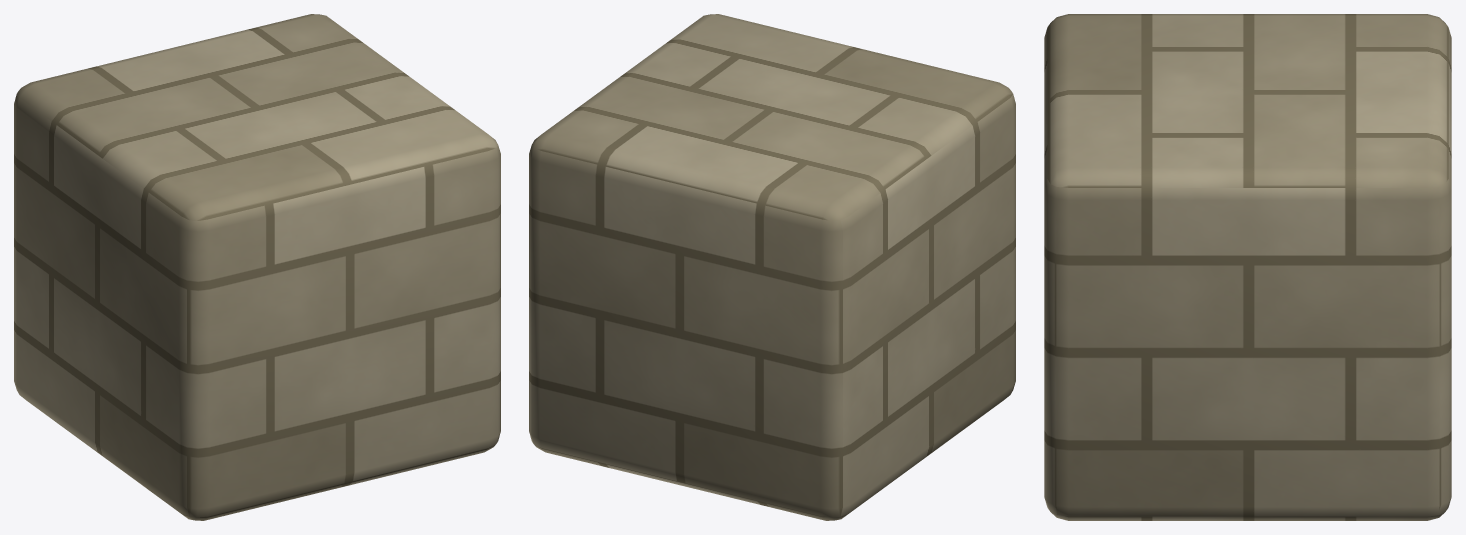
File: border.glb
The picture shows the model from 3 angles, left to right: view 1: azimuth 30°, elevation 25°; view 2: azimuth 150°, elevation 25°; view 3: azimuth 270°, elevation 25°; orthographic projection. The views are drawn at different scales.
Visible parts, largest first — view 1: border; view 2: border; view 3: border.
Boxes of the visible parts, box(x1,y1,x2,y2) form: border: box(14, 14, 500, 520); border: box(529, 14, 1015, 520); border: box(1044, 14, 1451, 520).
Size of the model in its own units: 1 by 0.95 by 1.
1 material, 1 textured.
